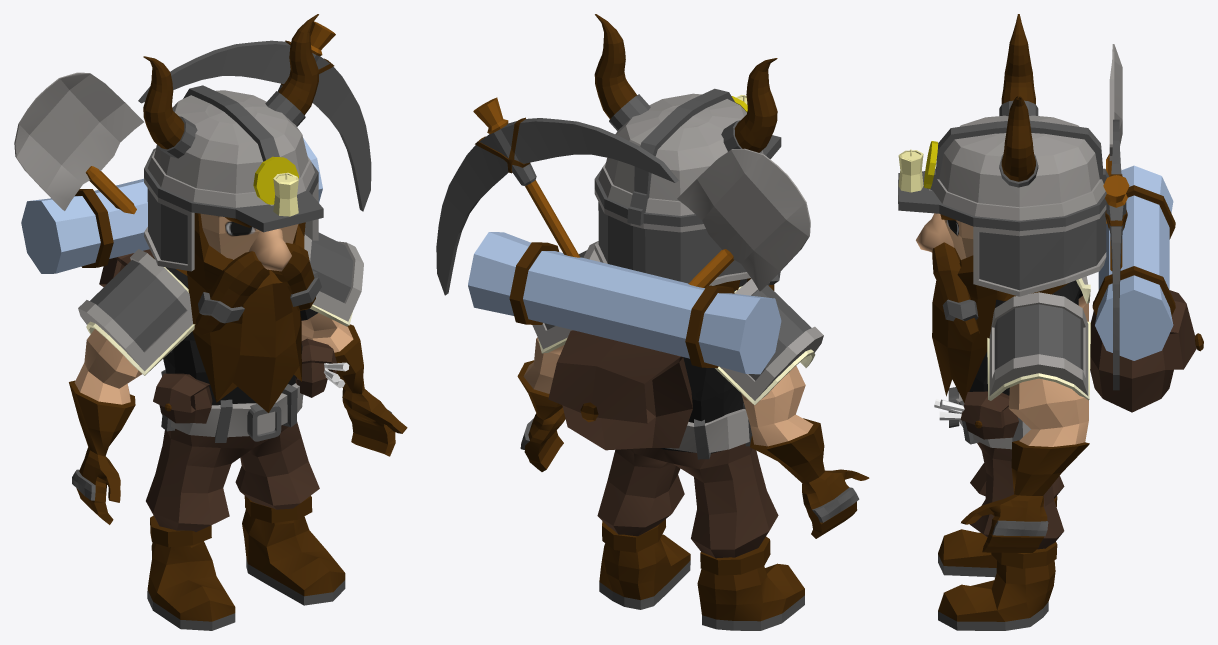
The model's file is Dwarf.fbx.
3 views of the same model, side by side, from view 1: azimuth 30°, elevation 25°; view 2: azimuth 150°, elevation 25°; view 3: azimuth 270°, elevation 25° (orthographic). The views are drawn at different scales.
Parts seen in each view (by area): view 1: pPlane159; view 2: pPlane159; view 3: pPlane159.
Boxes of the visible parts, bbox=[...] form: pPlane159: bbox=[14, 14, 407, 630]; pPlane159: bbox=[436, 14, 869, 630]; pPlane159: bbox=[898, 14, 1203, 630].
Bounding box in the file's own units: 72 × 106 × 54.9.
